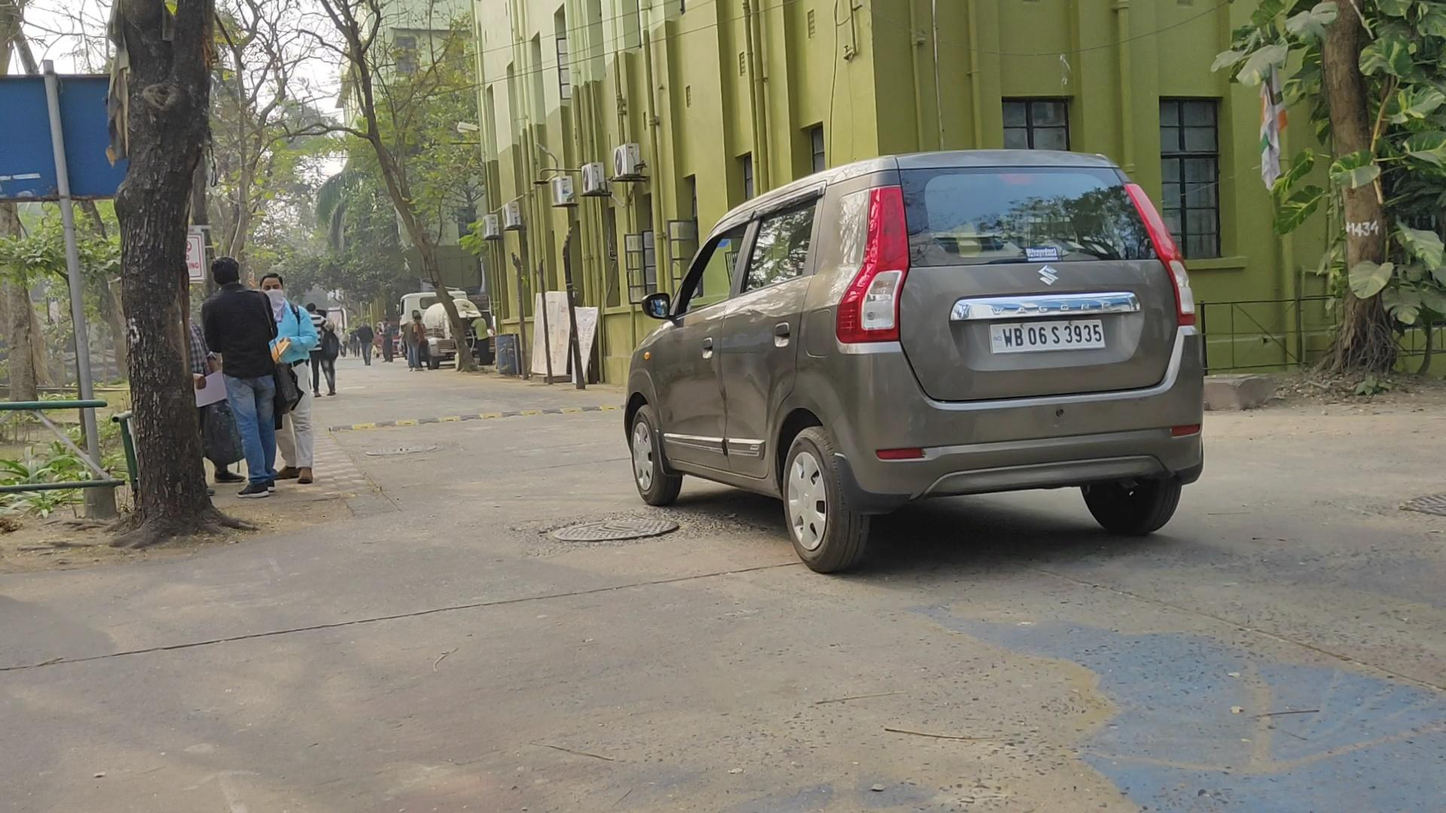car: (623, 145, 1206, 577)
truck: (398, 291, 484, 370)
